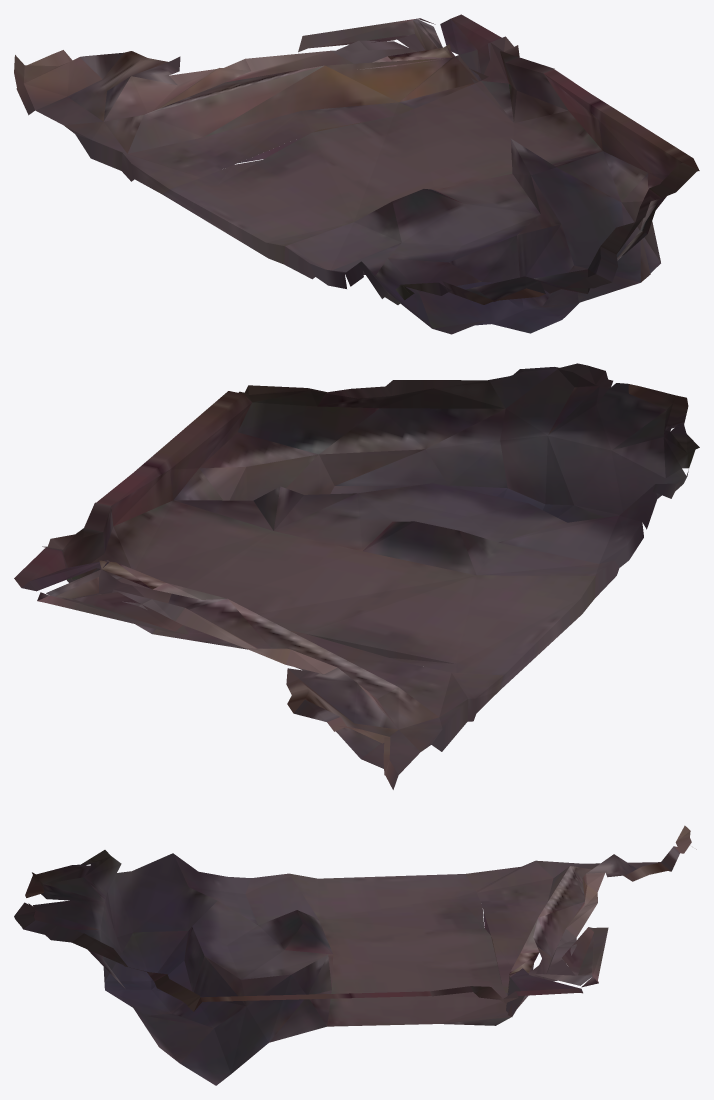
3 renders of one model, top to bottom at view 1: azimuth 30°, elevation 25°; view 2: azimuth 150°, elevation 25°; view 3: azimuth 270°, elevation 25°, orthographic. The views are drawn at different scales.
Parts seen in each view (by area): view 1: Mesh_0; view 2: Mesh_0; view 3: Mesh_0.
Part boxes in pixels (x1,y1,x2,y2): Mesh_0: (14, 14, 699, 334); Mesh_0: (14, 363, 699, 789); Mesh_0: (14, 825, 696, 1085).
Size of the model in its own units: 15.91 by 4.02 by 25.51.
Materials: 1 (1 with a texture image).
